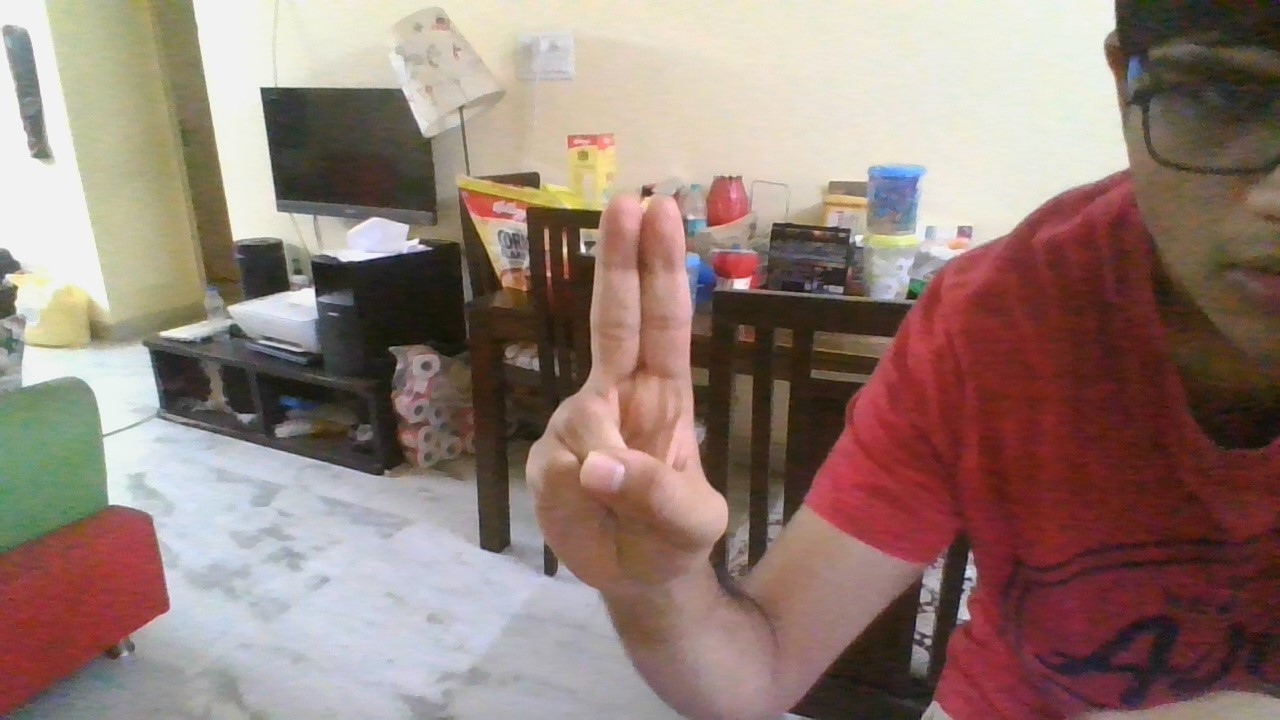u: (516, 182, 744, 594)
